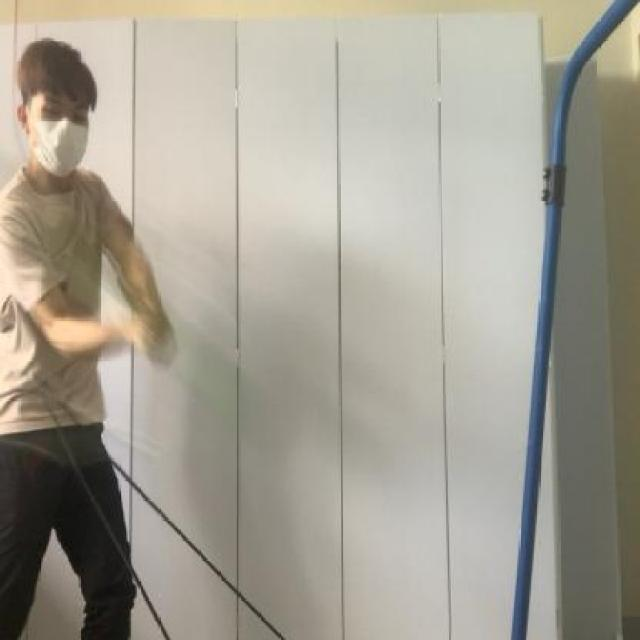baseball: (162, 350, 288, 432)
